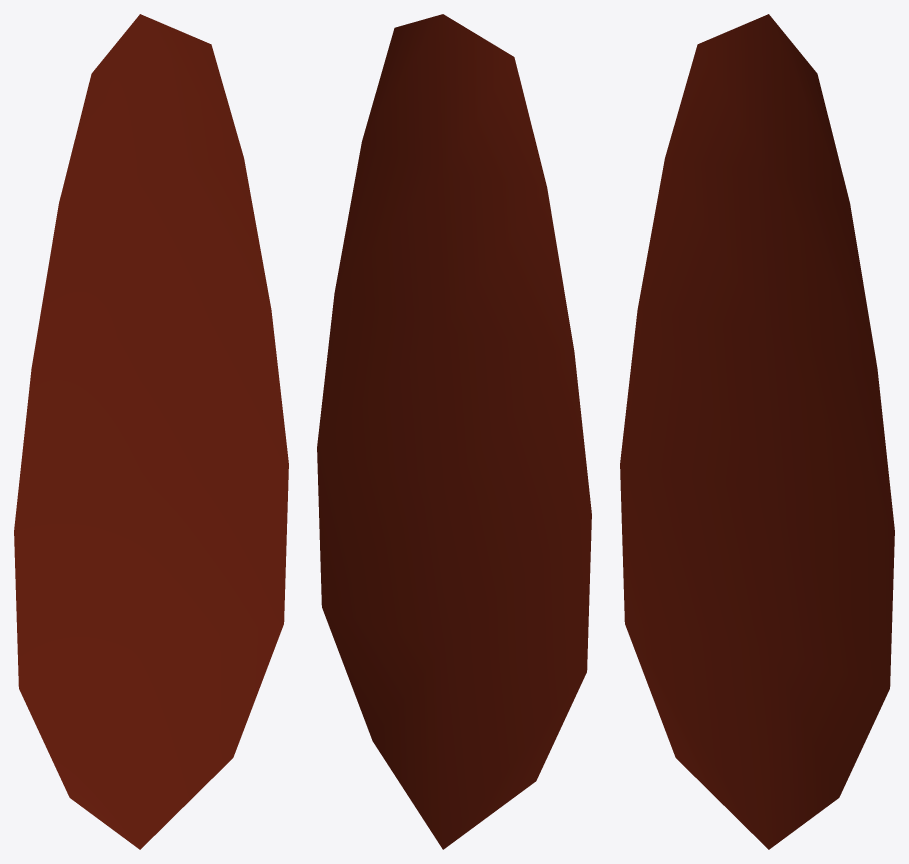
The model's file is pheasant_feather_flight_tertiary_057.obj.
The picture shows the model from 3 angles, left to right: view 1: azimuth 30°, elevation 25°; view 2: azimuth 150°, elevation 25°; view 3: azimuth 330°, elevation 25°; orthographic projection.
Parts seen in each view (by area): view 1: feather_flight_tertiary_057; view 2: feather_flight_tertiary_057; view 3: feather_flight_tertiary_057.
Boxes of the visible parts, left/top/right/bottom form: feather_flight_tertiary_057: left=14, top=14, right=288, bottom=849; feather_flight_tertiary_057: left=317, top=14, right=591, bottom=849; feather_flight_tertiary_057: left=620, top=14, right=894, bottom=849.
Bounding box in the file's own units: 0.00887 × 0.0258 × 0.000634.
